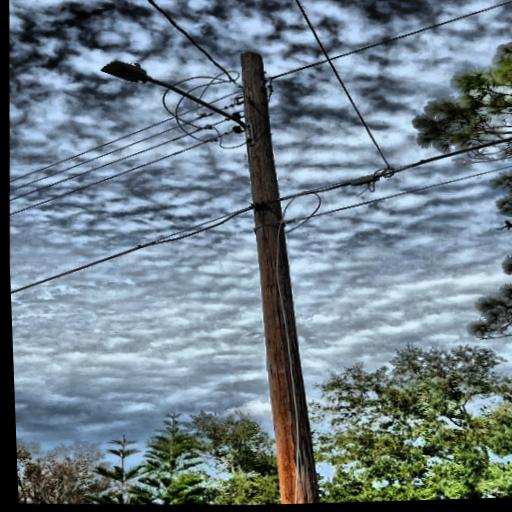pole: (203, 38, 380, 506)
street light: (95, 53, 260, 151)
